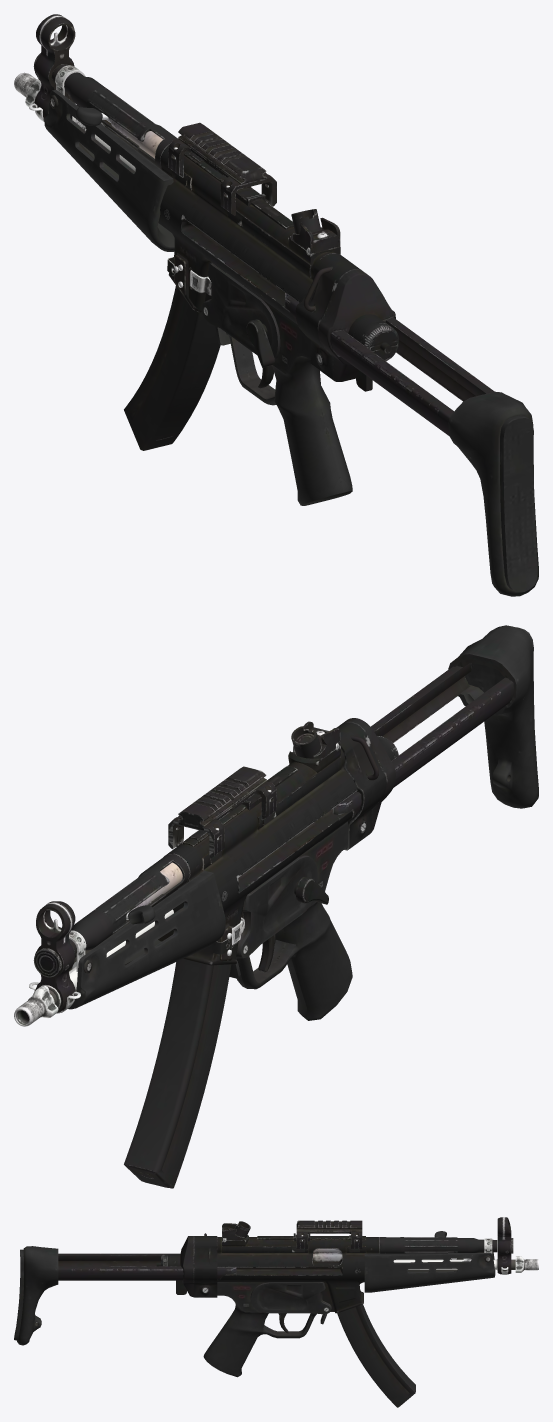
The model's file is gun-mp5.glb.
The picture shows the model from 3 angles, top to bottom: view 1: azimuth 30°, elevation 25°; view 2: azimuth 150°, elevation 25°; view 3: azimuth 270°, elevation 25°; orthographic projection. The views are drawn at different scales.
Parts seen in each view (by area): view 1: SM_MP5; view 2: SM_MP5; view 3: SM_MP5.
Part boxes in pixels (bbox=[...]): SM_MP5: bbox=[14, 14, 538, 596]; SM_MP5: bbox=[14, 625, 538, 1188]; SM_MP5: bbox=[14, 1217, 538, 1407].
Bounding box in the file's own units: 0.0614 × 0.2797 × 0.7148.
Materials: 3 (2 with a texture image).
